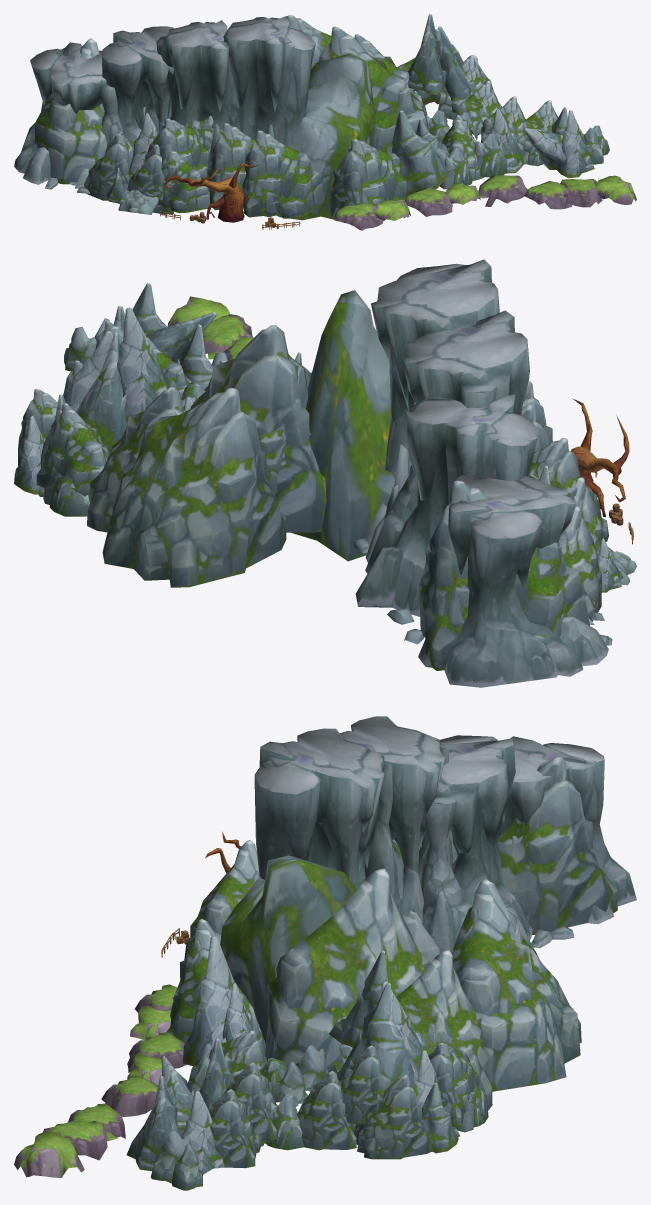
The model's file is yanshi7_1.fbx.
3 renders of one model, top to bottom at view 1: azimuth 30°, elevation 25°; view 2: azimuth 150°, elevation 25°; view 3: azimuth 270°, elevation 25°, orthographic. The views are drawn at different scales.
Visible parts, largest first — view 1: yanshi7_1; view 2: yanshi7_1; view 3: yanshi7_1.
Boxes of the visible parts, <box> form: yanshi7_1: <box>14,14,636,230</box>; yanshi7_1: <box>14,259,636,687</box>; yanshi7_1: <box>14,716,636,1190</box>.
Bounding box in the file's own units: 10082 × 3626 × 8038.
